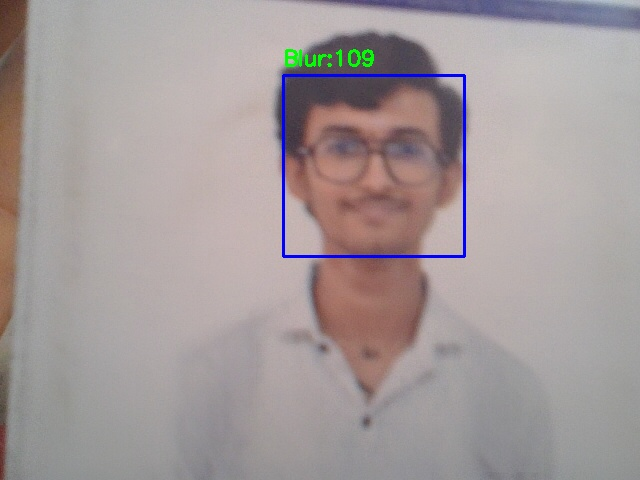fake: (283, 75, 464, 256)
